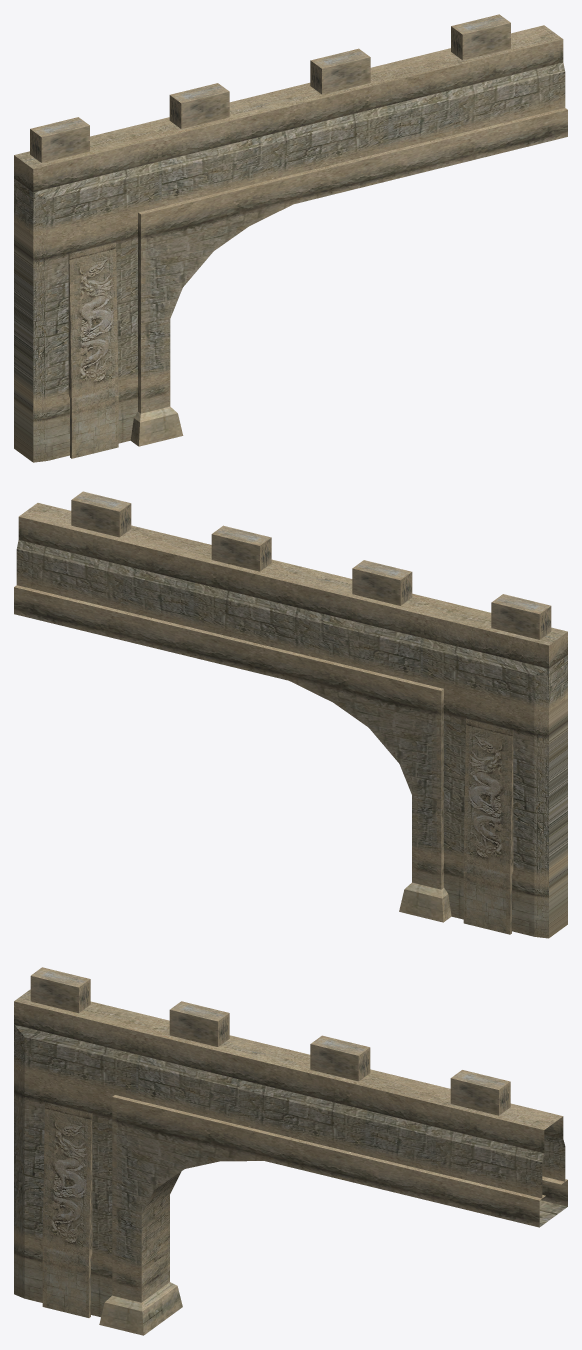
The model's file is desert-bigdam-01.fbx.
The picture shows the model from 3 angles, top to bottom: view 1: azimuth 30°, elevation 25°; view 2: azimuth 150°, elevation 25°; view 3: azimuth 330°, elevation 25°; orthographic projection.
Parts seen in each view (by area): view 1: desert-bigdam-01, desert-bigdam-02; view 2: desert-bigdam-01, desert-bigdam-02; view 3: desert-bigdam-01, desert-bigdam-02.
Part boxes in pixels (x1,y1,x2,y2): desert-bigdam-01: [14, 14, 565, 462]; desert-bigdam-02: [68, 108, 567, 458]; desert-bigdam-01: [16, 491, 567, 938]; desert-bigdam-02: [14, 585, 513, 934]; desert-bigdam-01: [14, 967, 565, 1317]; desert-bigdam-02: [42, 1095, 567, 1335].
Size of the model in its own units: 11.31 by 6.51 by 1.45.
